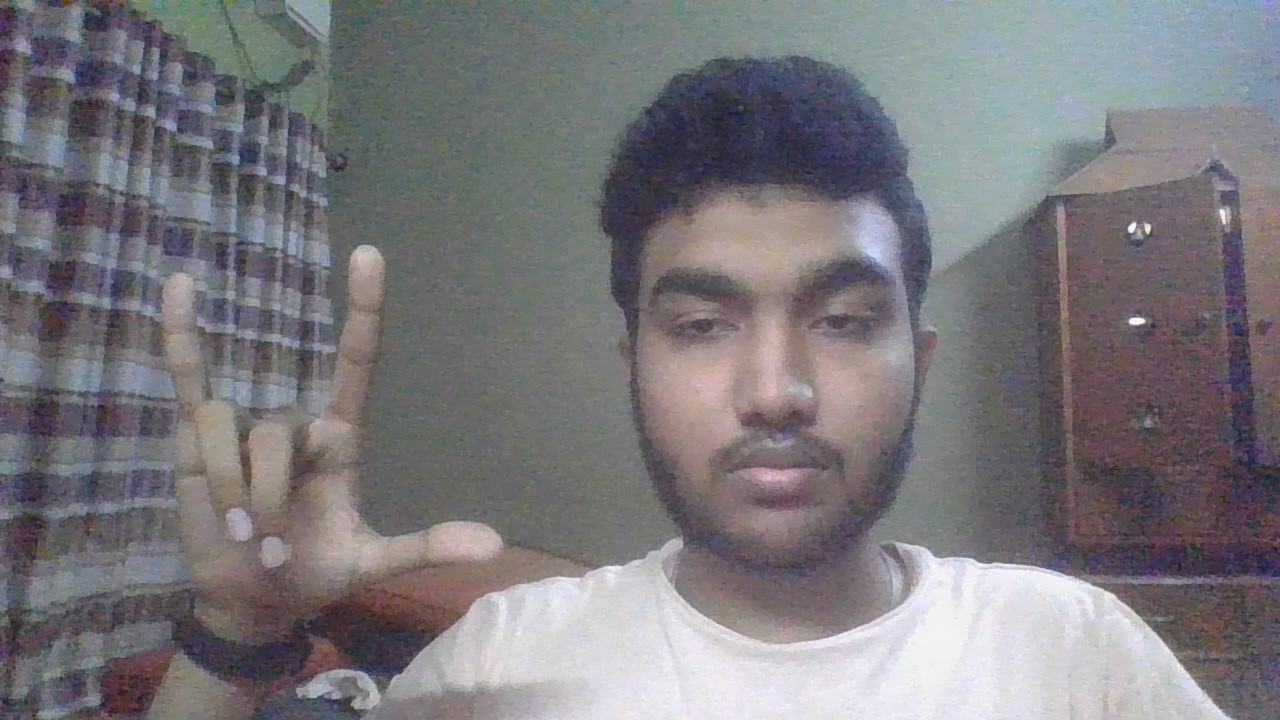I Love You: (128, 235, 510, 647)
